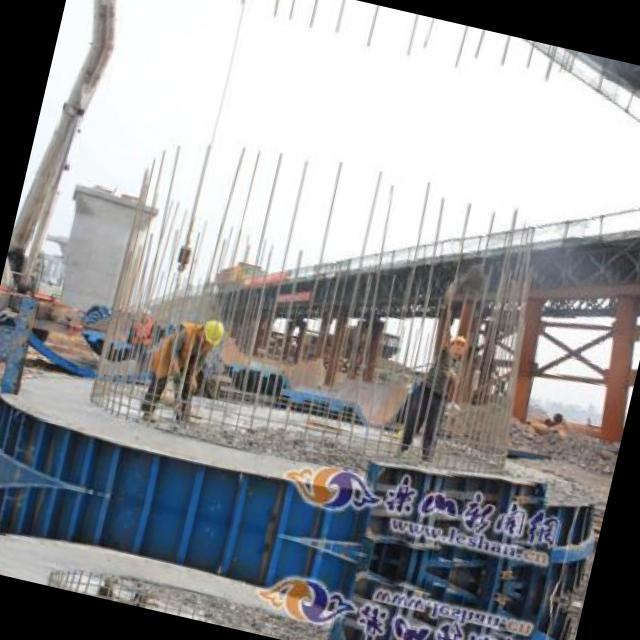helmet: (194, 310, 230, 350), (442, 323, 472, 358)
